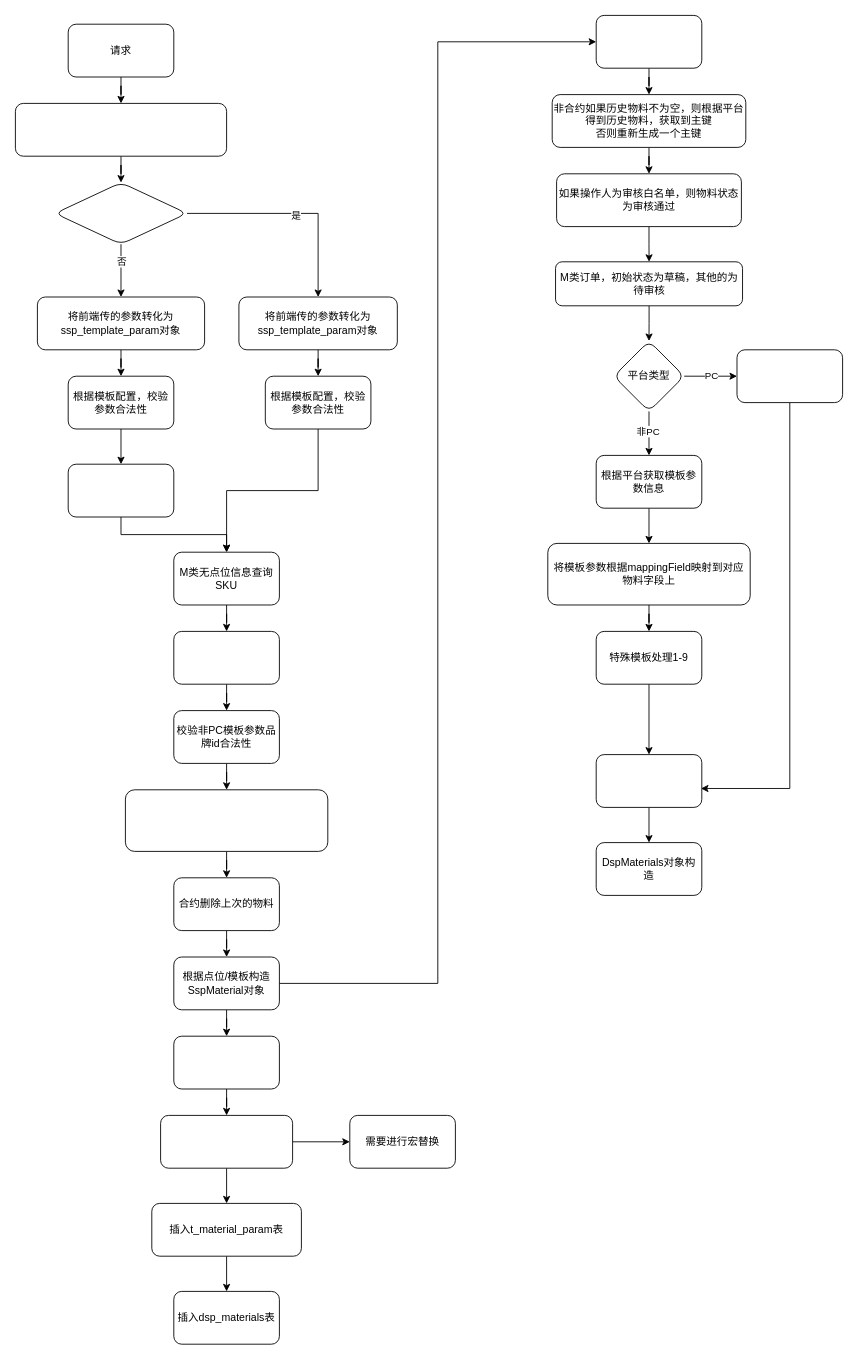
This 858x1360 diagram has some shape labels left out. The shapes that lost their labels are listed below. From the top down, each one's centre as x and y in pixels, then its label:
pixel 648 41: 根据平台过滤得到monitoLink对象
pixel 121 129: 对配置了检测链接的URL,A,M订单 校验需要包含第三方检测
pixel 120 213: 是否批量上传
pixel 789 376: 从模板参数中解析出title,linkUrl
pixel 120 490: 根据URL配置，校验URL合法性
pixel 226 657: 非合约，获取历史物料信息
pixel 648 780: 其他模板参数赋值
pixel 226 820: spu级别传的物料排期是sku的集合，过滤掉不在sku不在此排期的日期
pixel 226 1062: 插入ssp.material表
pixel 226 1141: PC模板，插入ssp.t_material_template
